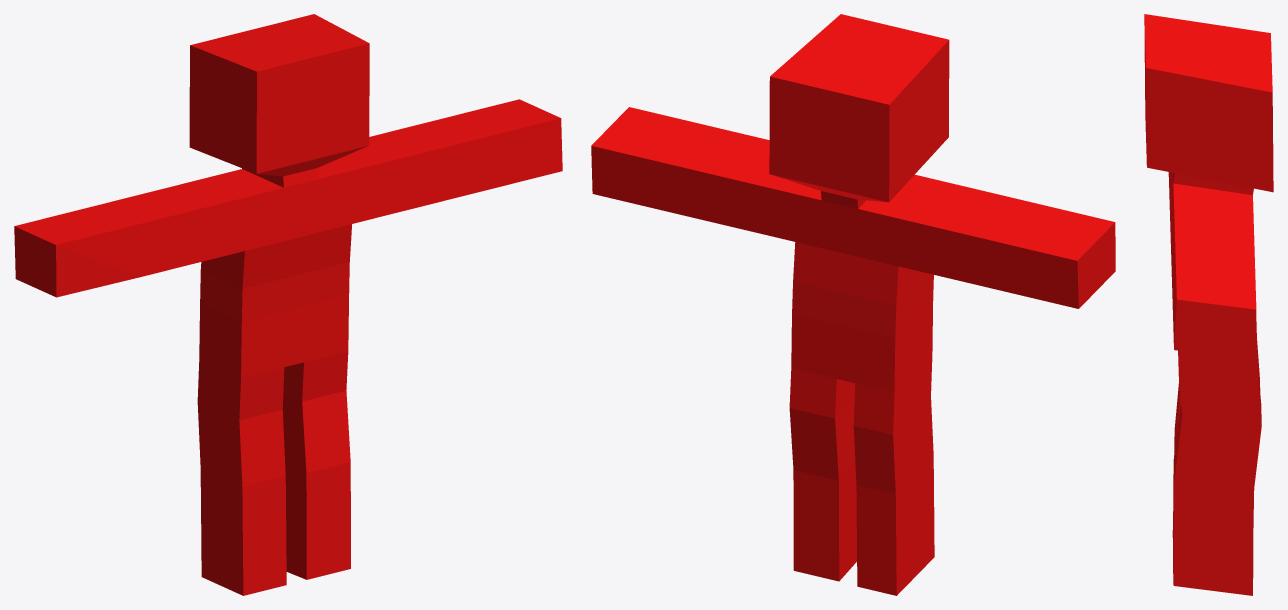
File: Hero.FBX
The picture shows the model from 3 angles, left to right: view 1: azimuth 30°, elevation 25°; view 2: azimuth 150°, elevation 25°; view 3: azimuth 270°, elevation 25°; orthographic projection. The views are drawn at different scales.
Visible parts, largest first — view 1: Hero; view 2: Hero; view 3: Hero.
Boxes of the visible parts, x1=… form: Hero: x1=14, y1=14, x2=562, y2=595; Hero: x1=591, y1=14, x2=1115, y2=595; Hero: x1=1144, y1=14, x2=1273, y2=595.
Size of the model in its own units: 639 by 654 by 144.
Materials: 1 (1 with a texture image).
